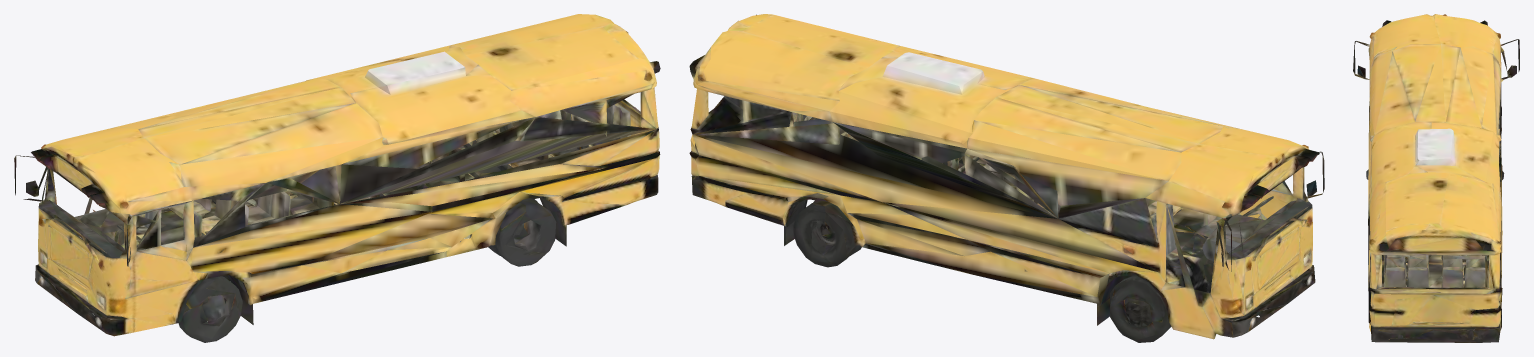
The model's file is school_bus.glb.
3 views of the same model, side by side, from view 1: azimuth 30°, elevation 25°; view 2: azimuth 150°, elevation 25°; view 3: azimuth 270°, elevation 25° (orthographic). The views are drawn at different scales.
Parts seen in each view (by area): view 1: Mesh_0; view 2: Mesh_0; view 3: Mesh_0.
Part boxes in pixels (box(x1,y1,x2,y2)): Mesh_0: box(14, 14, 660, 342); Mesh_0: box(689, 14, 1324, 342); Mesh_0: box(1353, 14, 1519, 342).
Size of the model in its own units: 1.9 by 0.6048 by 0.6027.
Materials: 1 (1 with a texture image).
